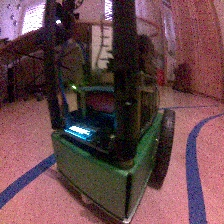rob: (49, 33, 176, 224)
